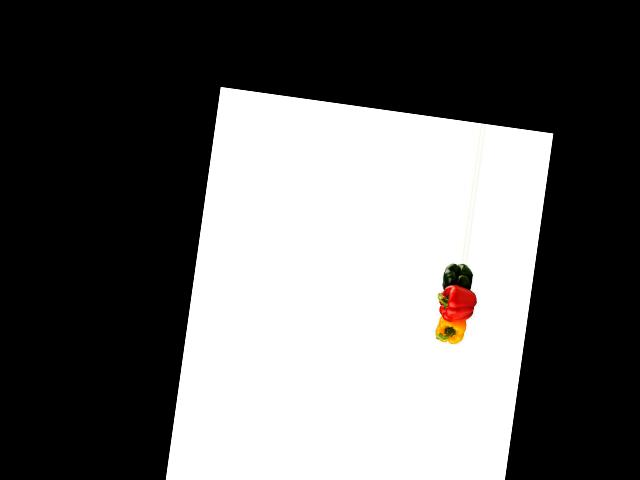bell_pepper: (430, 313, 473, 348)
